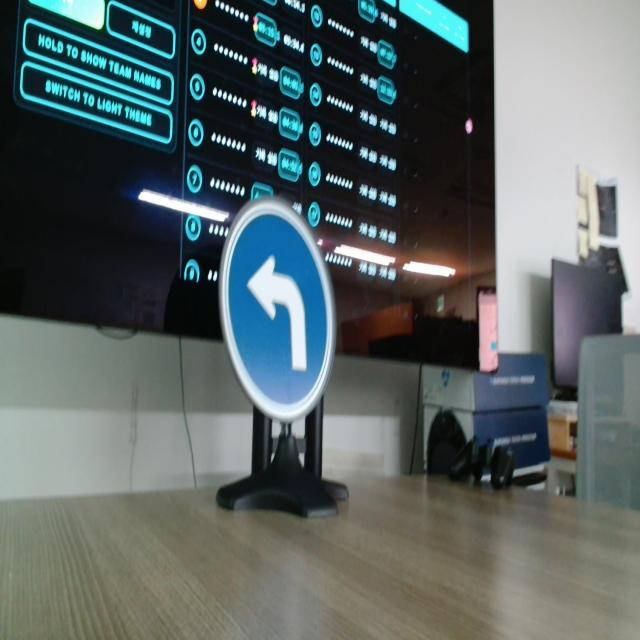left_direction: (216, 196, 338, 420)
